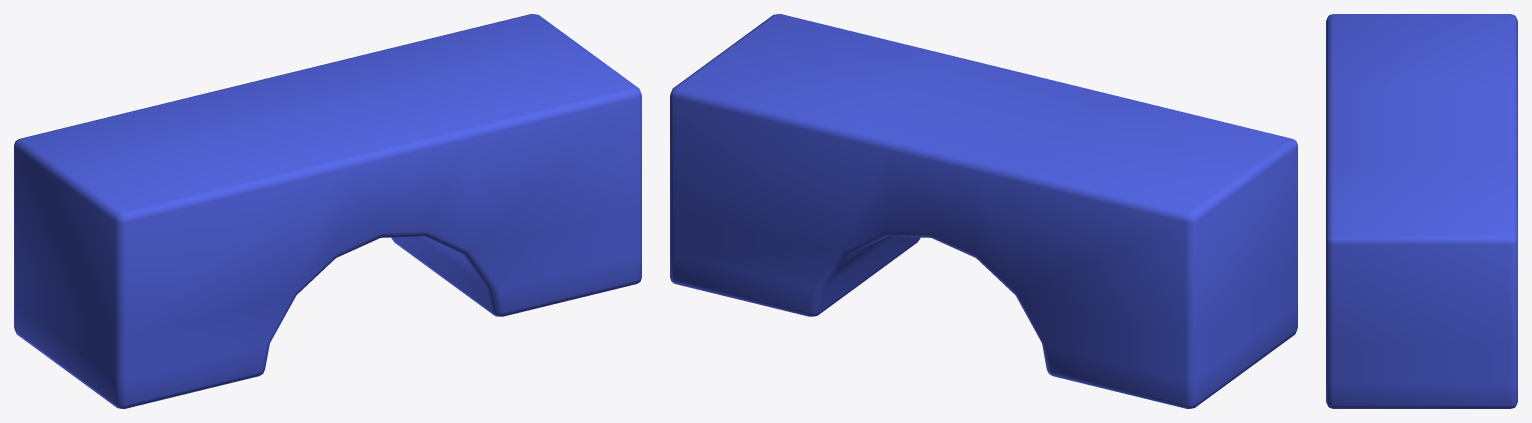
The model's file is archStackArch.glb.
The picture shows the model from 3 angles, left to right: view 1: azimuth 30°, elevation 25°; view 2: azimuth 150°, elevation 25°; view 3: azimuth 270°, elevation 25°; orthographic projection. The views are drawn at different scales.
Parts seen in each view (by area): view 1: archStackArch; view 2: archStackArch; view 3: archStackArch.
Part boxes in pixels (x1,y1,x2,y2): archStackArch: (14, 14, 641, 408); archStackArch: (670, 14, 1297, 408); archStackArch: (1326, 14, 1517, 408).
Size of the model in its own units: 1.4 by 0.5 by 0.5.
